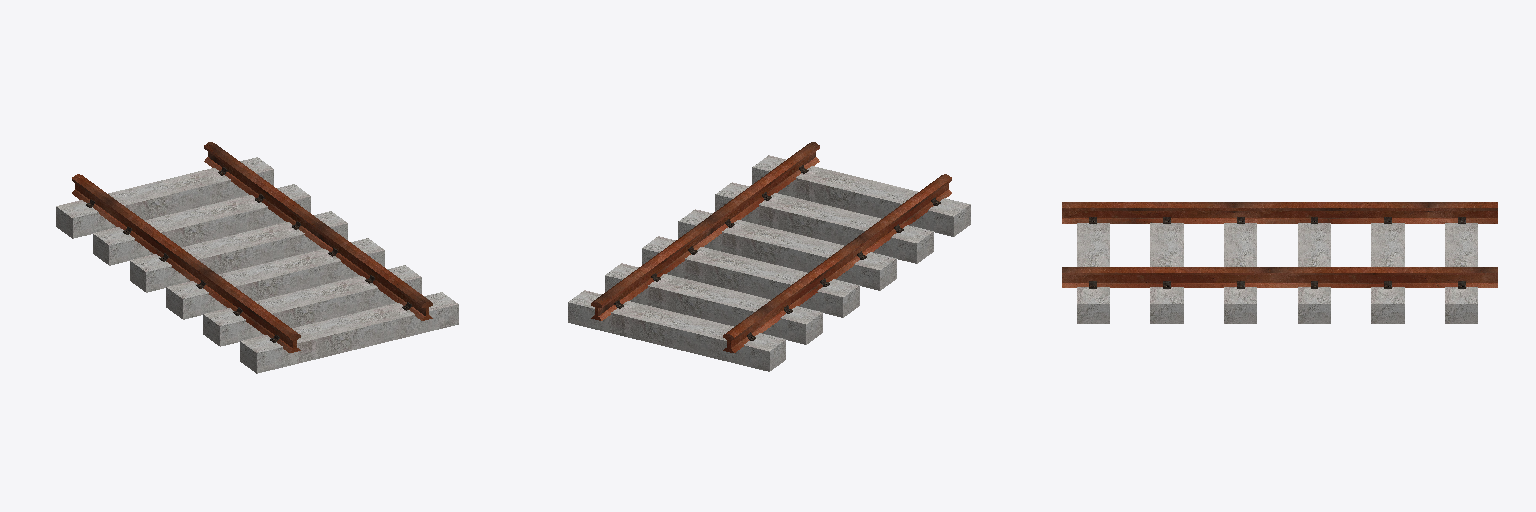
The picture shows the model from 3 angles: view 1: azimuth 30°, elevation 25°; view 2: azimuth 150°, elevation 25°; view 3: azimuth 270°, elevation 25°; orthographic projection.
Parts seen in each view (by area): view 1: RailTrackLogs, RailTrackTrack; view 2: RailTrackLogs, RailTrackTrack; view 3: RailTrackTrack, RailTrackLogs.
Boxes of the visible parts, x1,y1,x2,y2 form: RailTrackLogs: [56, 157, 458, 373]; RailTrackTrack: [72, 142, 432, 352]; RailTrackLogs: [568, 155, 970, 371]; RailTrackTrack: [591, 142, 951, 352]; RailTrackTrack: [1062, 202, 1497, 288]; RailTrackLogs: [1077, 223, 1477, 323].
Size of the model in its own units: 1.91 by 0.3392 by 3.58.
Materials: 1 (1 with a texture image).